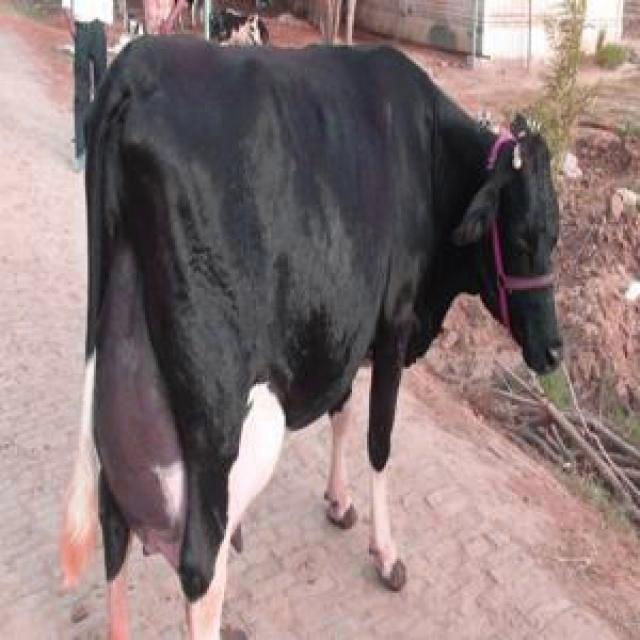cow: (64, 38, 560, 639)
